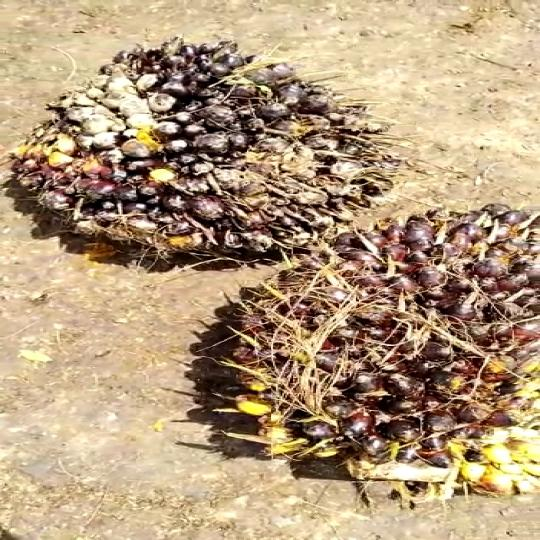mentah: (199, 191, 540, 502), (0, 48, 436, 259)
